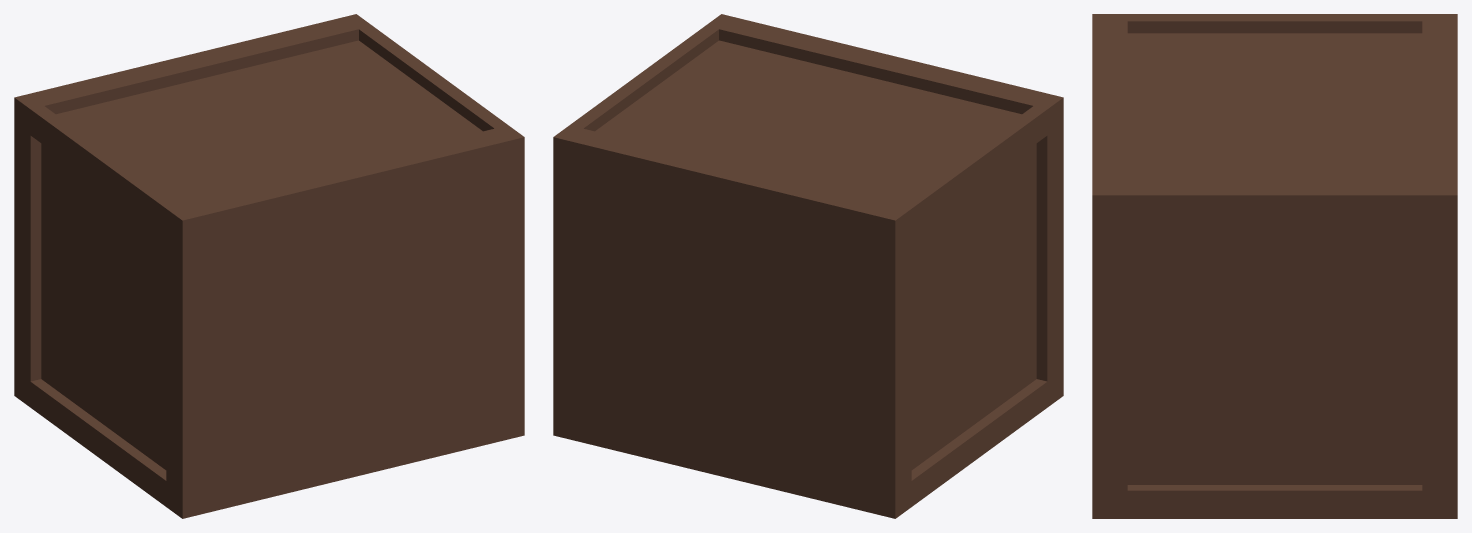
File: crate.dae
3 renders of one model, left to right at view 1: azimuth 30°, elevation 25°; view 2: azimuth 150°, elevation 25°; view 3: azimuth 270°, elevation 25°, orthographic. The views are drawn at different scales.
Visible parts, largest first — view 1: wood_crate; view 2: wood_crate; view 3: wood_crate.
Part boxes in pixels (<box>): wood_crate: <box>14,14,524,518</box>; wood_crate: <box>553,14,1063,518</box>; wood_crate: <box>1092,14,1457,518</box>.
Size of the model in its own units: 12.19 by 10.38 by 10.16.
